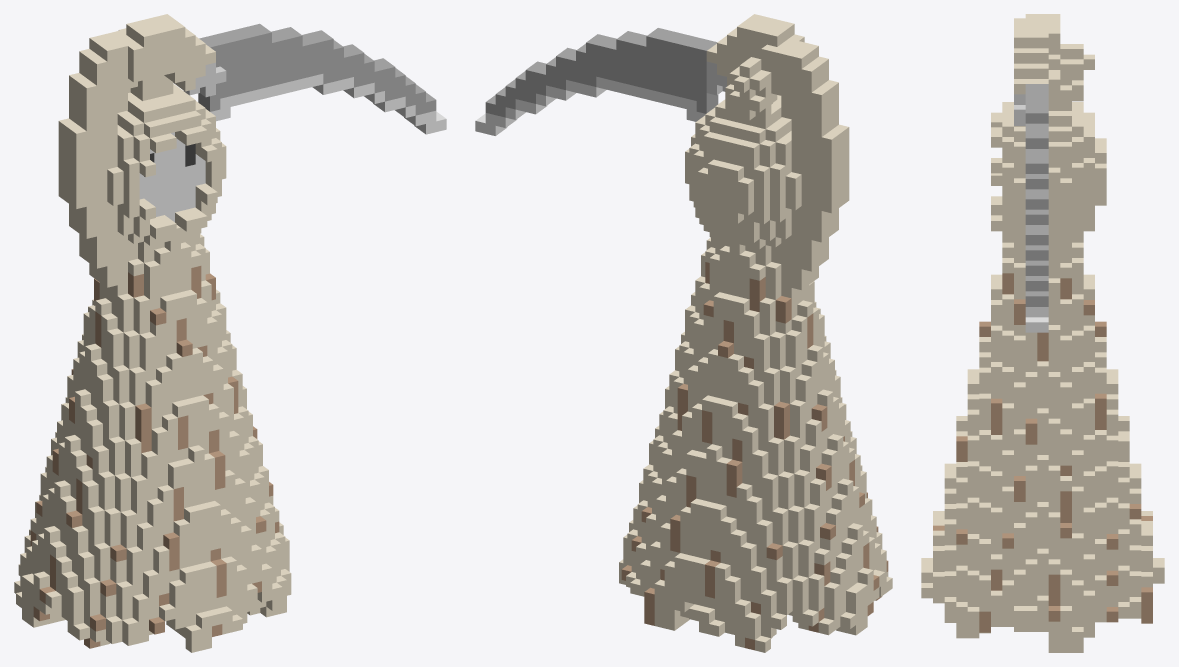
The model's file is Hooded_Reaper.fbx.
3 renders of one model, left to right at view 1: azimuth 30°, elevation 25°; view 2: azimuth 150°, elevation 25°; view 3: azimuth 270°, elevation 25°, orthographic. The views are drawn at different scales.
Visible parts, largest first — view 1: Hooded_Reaper; view 2: Hooded_Reaper; view 3: Hooded_Reaper.
Part boxes in pixels (bbox=[...]): Hooded_Reaper: bbox=[14, 14, 446, 652]; Hooded_Reaper: bbox=[475, 14, 892, 652]; Hooded_Reaper: bbox=[921, 14, 1164, 652].
Bounding box in the file's own units: 1.56 × 2.16 × 0.84.
